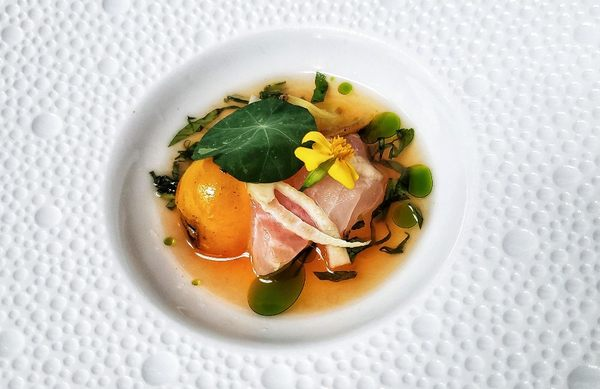sushi: (114, 27, 469, 343)
